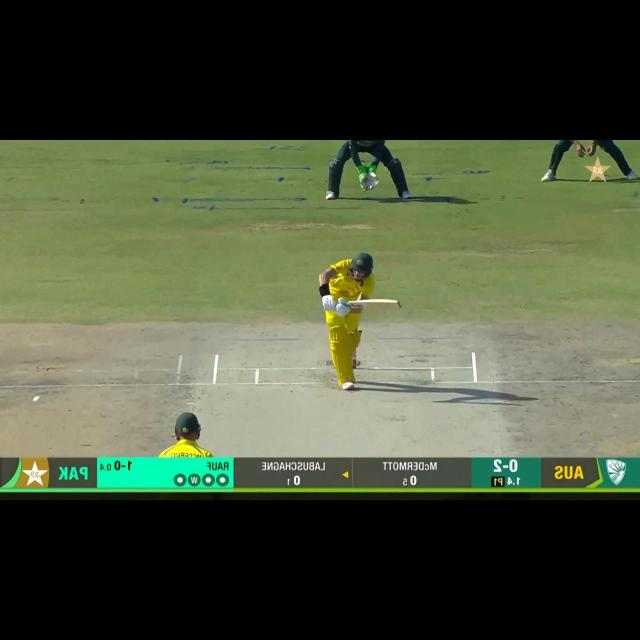bat: (348, 299, 401, 312)
toe: (392, 300, 402, 312)
